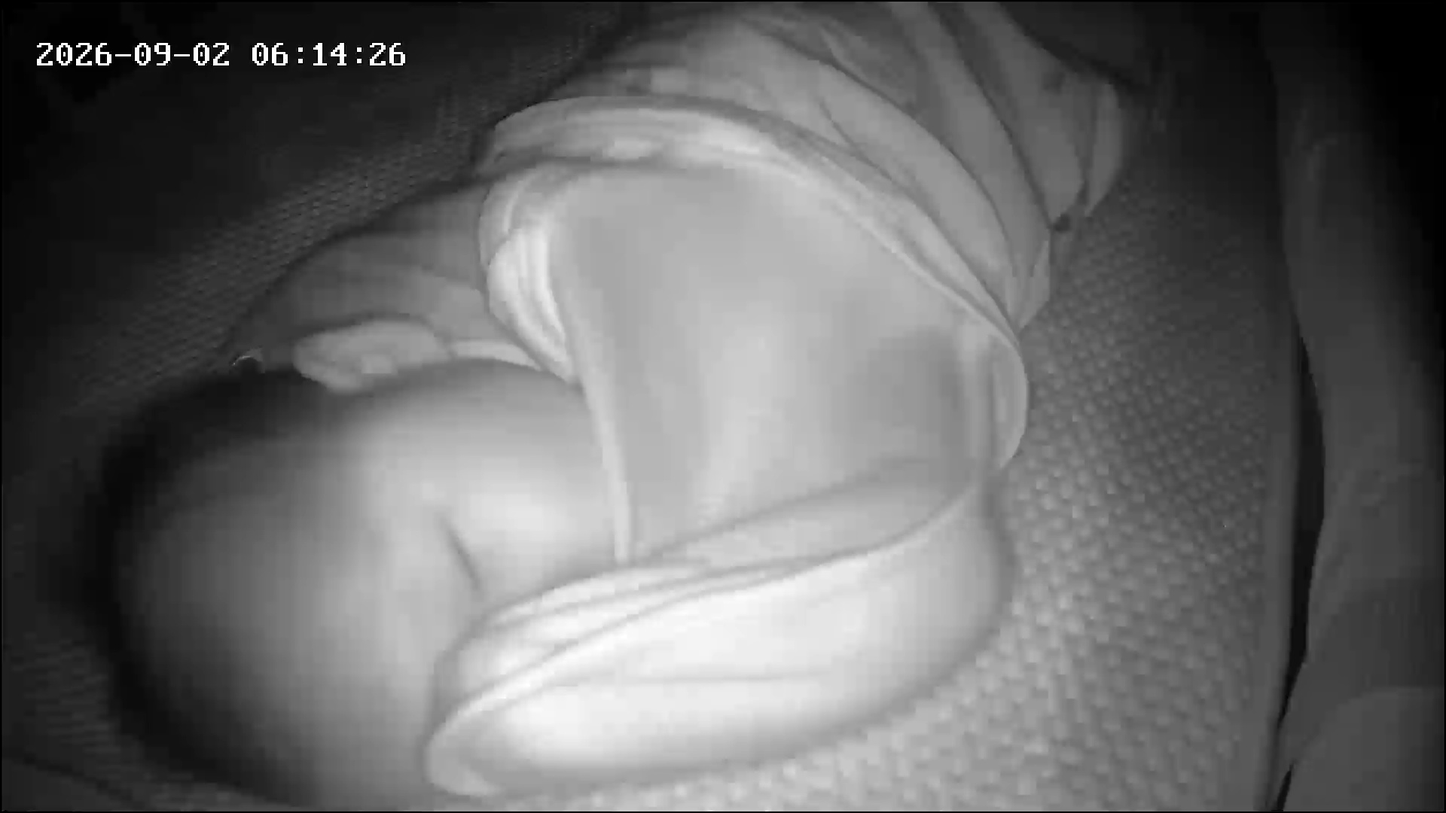baby_face: (30, 360, 553, 807)
